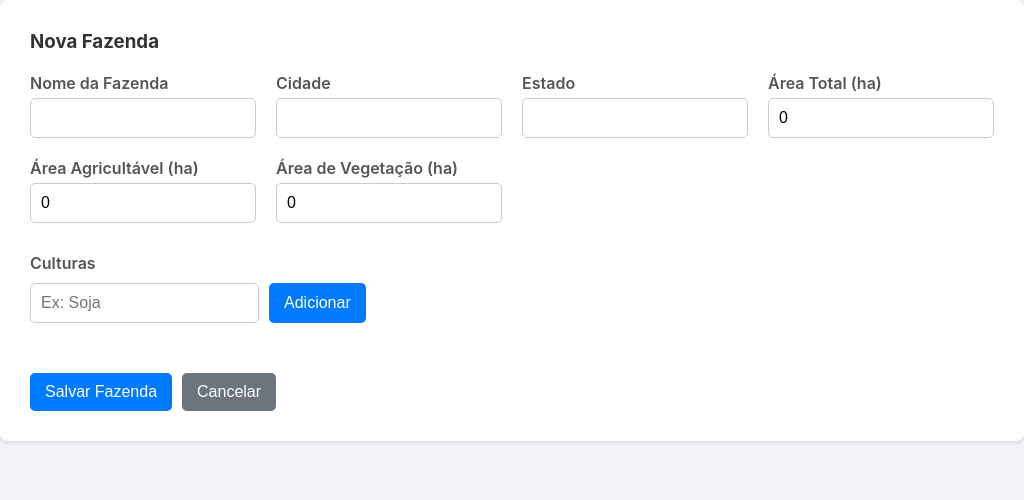
Scenario: Componente FarmForm › should display an error when the sum of the areas is greater than the total area
Type "100" into the number field labelled "Área Total (ha)" at (881, 118), box [768,98,994,138]
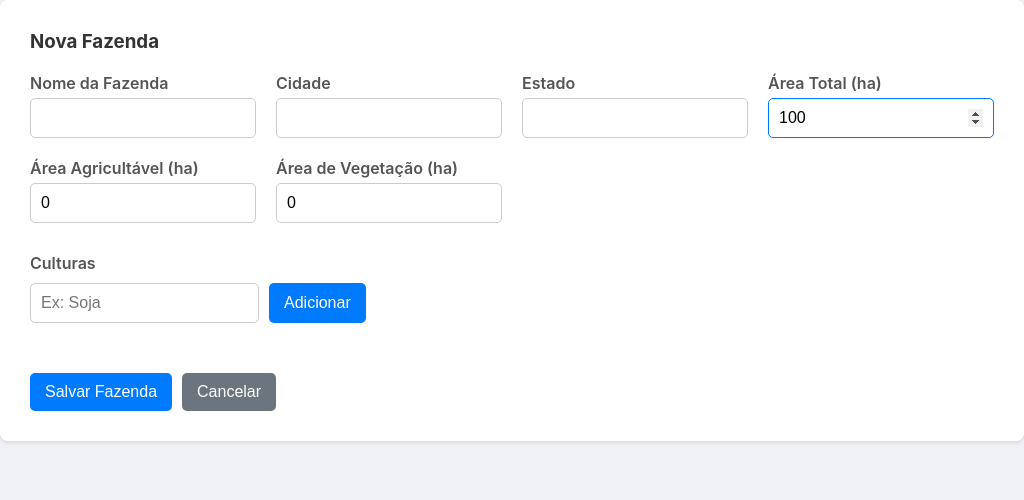
Type "70" into the number field labelled "Área Agricultável (ha)" at (143, 203), box [30,183,256,223]
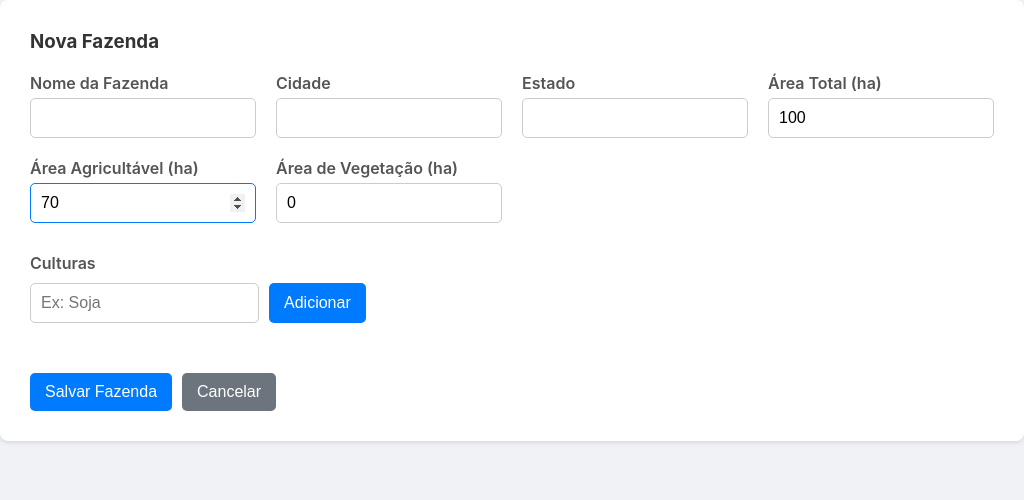
Type "40" into the number field labelled "Área de Vegetação (ha)" at (389, 203), box [276,183,502,223]
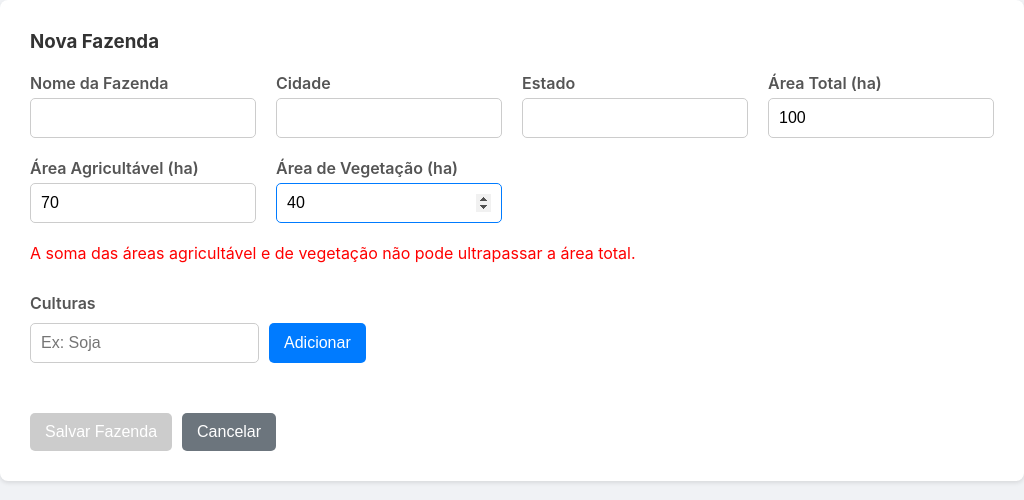
Result: the text "A soma das áreas agricultável e de vegetação não pode ultrapassar a área total." is shown at [30,243,636,263]
Result: the button "Salvar Fazenda" is disabled at [30,413,172,451]
